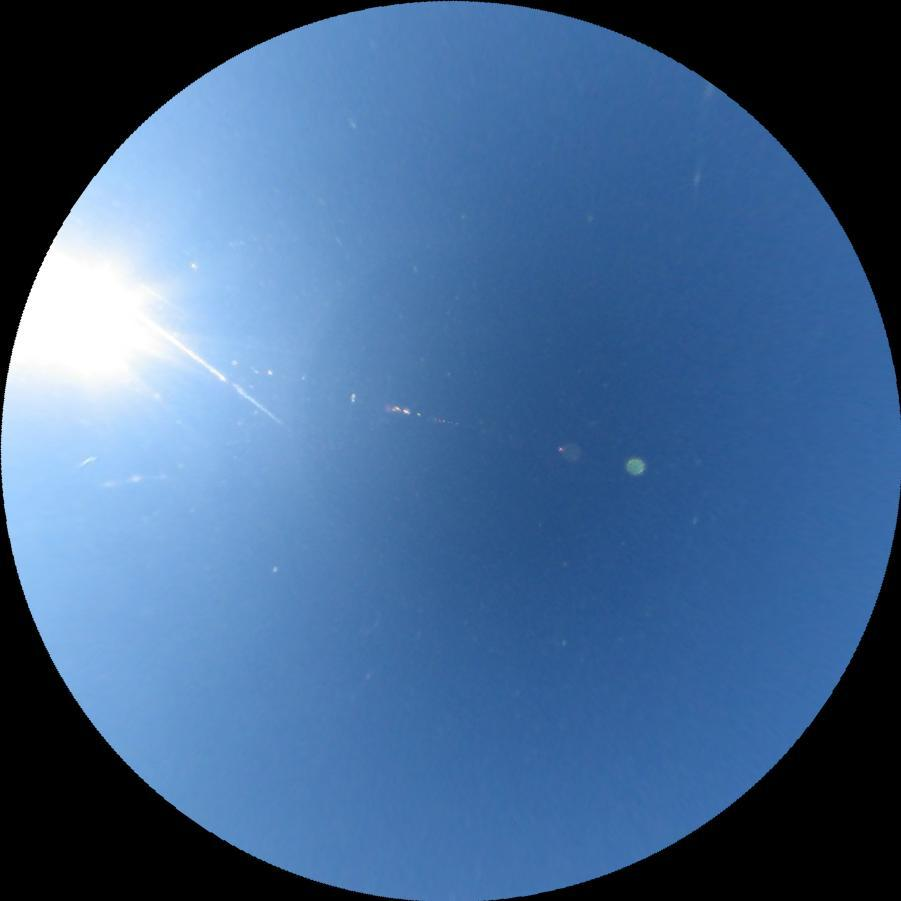contrail young: (70, 450, 97, 469)
parasite: (95, 466, 165, 488)
sun: (0, 240, 185, 415)
